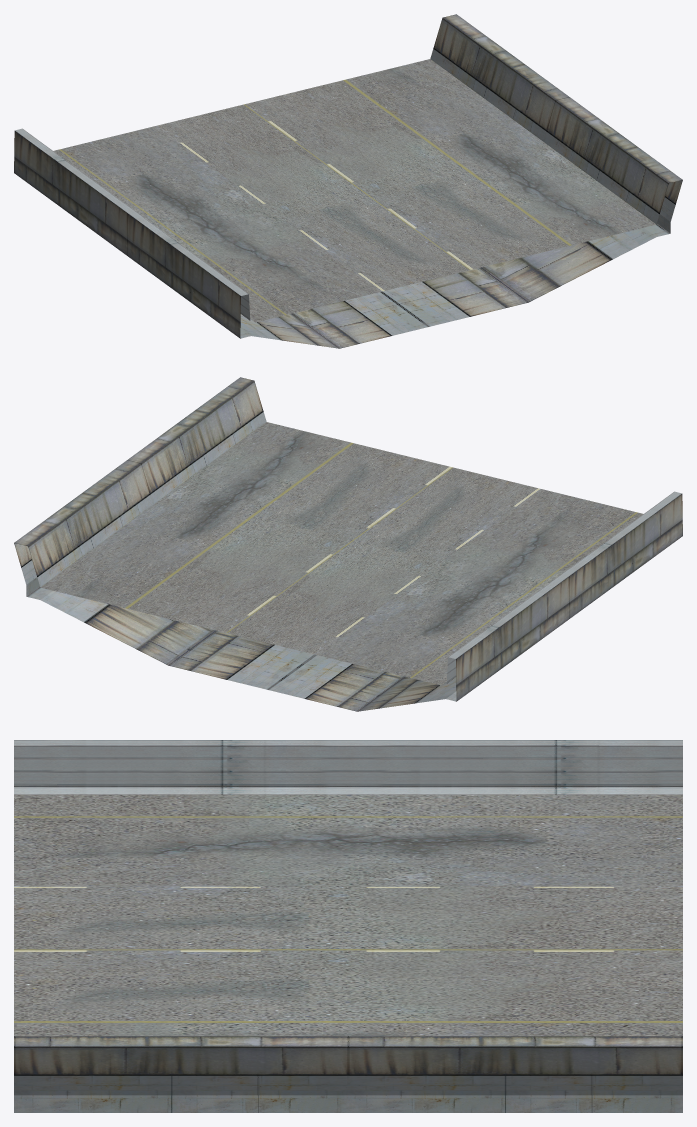
Rendered from Highway_Road_Part_02.fbx.
3 renders of one model, top to bottom at view 1: azimuth 30°, elevation 25°; view 2: azimuth 150°, elevation 25°; view 3: azimuth 270°, elevation 25°, orthographic. The views are drawn at different scales.
Visible parts, largest first — view 1: Highway_Road_Part_02; view 2: Highway_Road_Part_02; view 3: Highway_Road_Part_02.
Boxes of the visible parts, x1,y1,x2,y2 form: Highway_Road_Part_02: (14, 14, 682, 348); Highway_Road_Part_02: (14, 377, 682, 711); Highway_Road_Part_02: (14, 740, 682, 1112).
Bounding box in the file's own units: 1492 × 274 × 1322.
